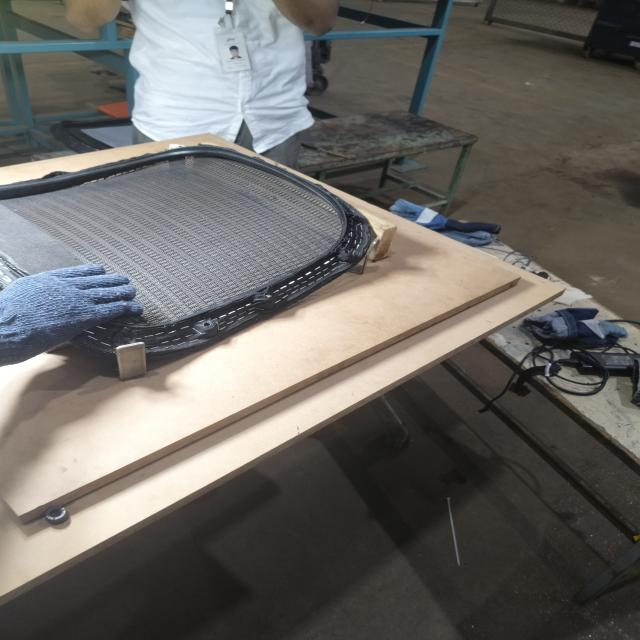Gloves-Detection: (0, 267, 136, 356)
